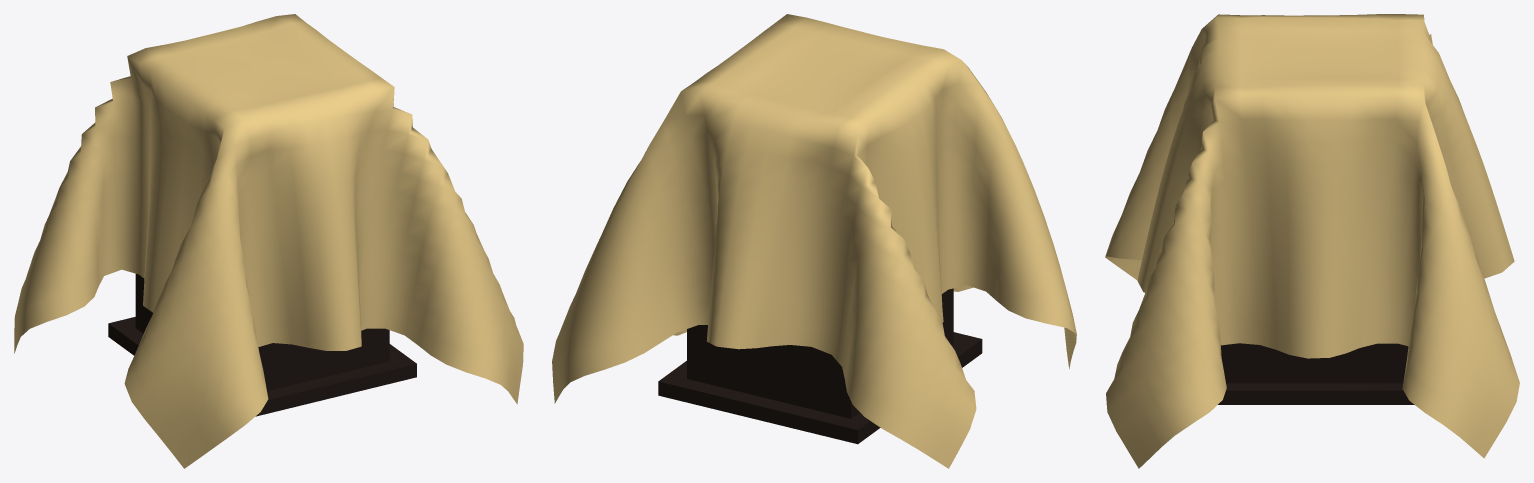
The model's file is ClothCover.fbx.
3 renders of one model, left to right at view 1: azimuth 30°, elevation 25°; view 2: azimuth 150°, elevation 25°; view 3: azimuth 270°, elevation 25°, orthographic. The views are drawn at different scales.
Parts seen in each view (by area): view 1: Plane, Cube; view 2: Plane, Cube; view 3: Plane, Cube.
Boxes of the visible parts, x1,y1,x2,y2 form: Plane: (14,14,523,468); Cube: (108,274,416,416); Plane: (552,14,1076,468); Cube: (658,288,982,444); Plane: (1105,14,1519,468); Cube: (1218,343,1414,404).
Size of the model in its own units: 492 by 388 by 440.
